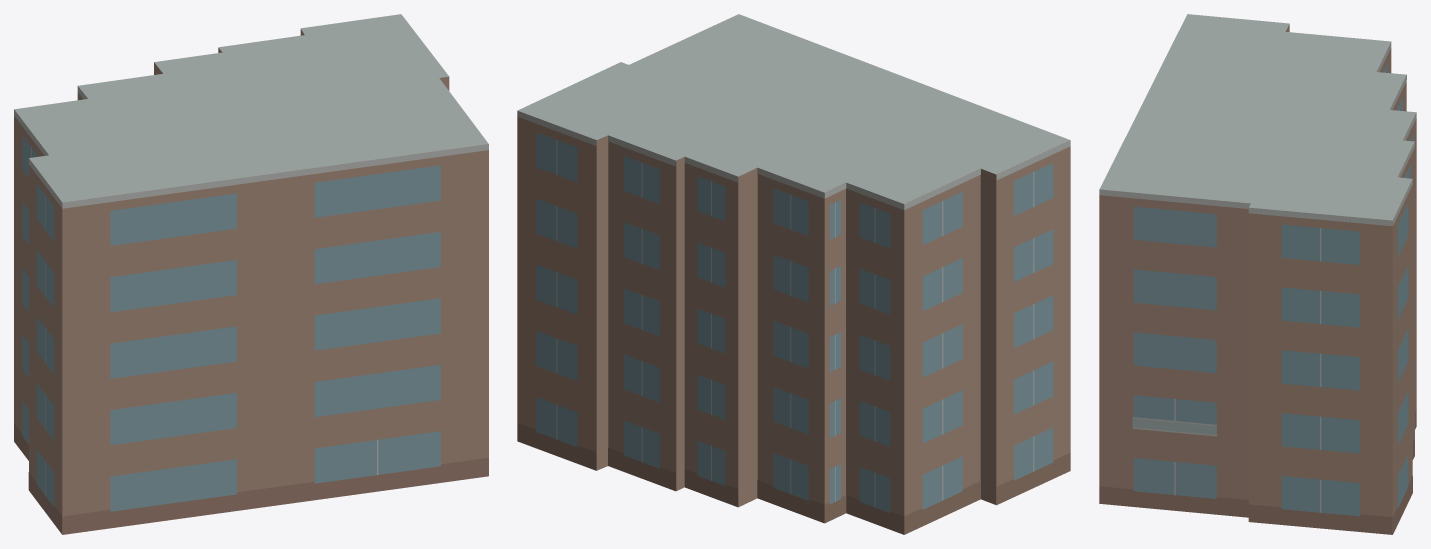
File: survey-upis-32682201.glb
The picture shows the model from 3 angles, left to right: view 1: azimuth 30°, elevation 25°; view 2: azimuth 150°, elevation 25°; view 3: azimuth 270°, elevation 25°; orthographic projection. The views are drawn at different scales.
Visible parts, largest first — view 1: survey-upis-32682201.tmp; view 2: survey-upis-32682201.tmp; view 3: survey-upis-32682201.tmp.
Part boxes in pixels (left/top/right/bottom): survey-upis-32682201.tmp: left=14, top=14, right=488, bottom=534; survey-upis-32682201.tmp: left=517, top=14, right=1070, bottom=534; survey-upis-32682201.tmp: left=1099, top=14, right=1416, bottom=534.
Bounding box in the file's own units: 18.82 × 13.35 × 12.22.
